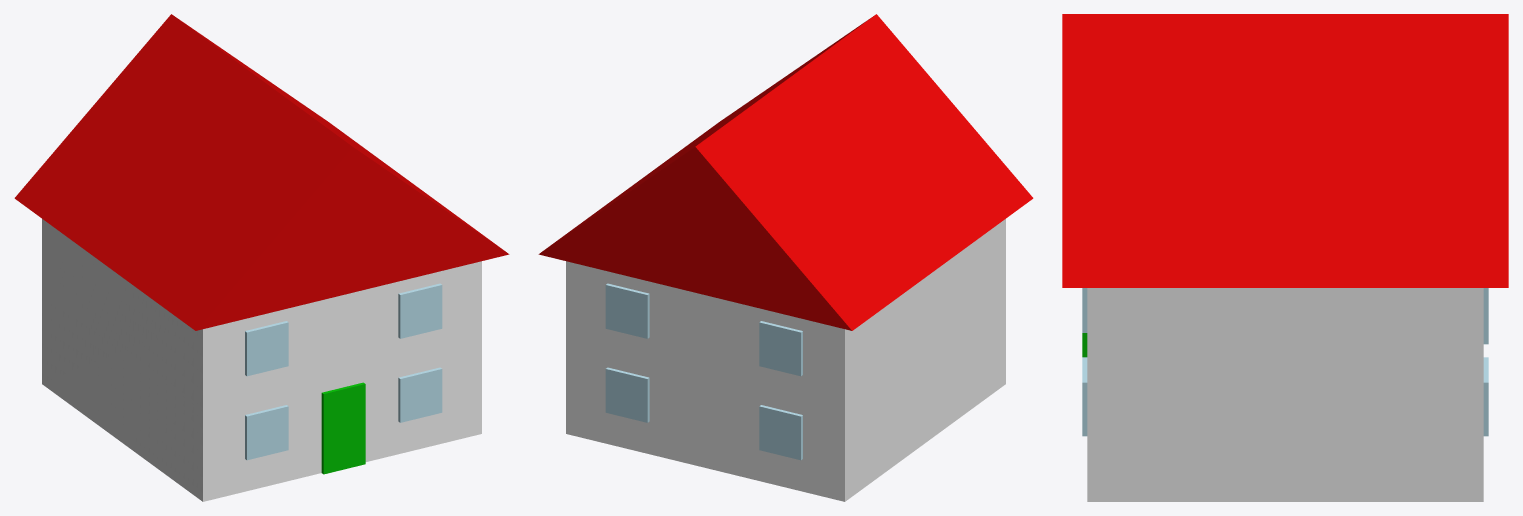
The model's file is house.glb.
The picture shows the model from 3 angles, left to right: view 1: azimuth 30°, elevation 25°; view 2: azimuth 150°, elevation 25°; view 3: azimuth 270°, elevation 25°; orthographic projection. The views are drawn at different scales.
Visible parts, largest first — view 1: world; view 2: world; view 3: world.
Boxes of the visible parts, x1=… form: world: x1=14, y1=14, x2=509, y2=501; world: x1=538, y1=14, x2=1033, y2=501; world: x1=1062, y1=14, x2=1508, y2=501.
Size of the model in its own units: 9 by 9 by 9.
